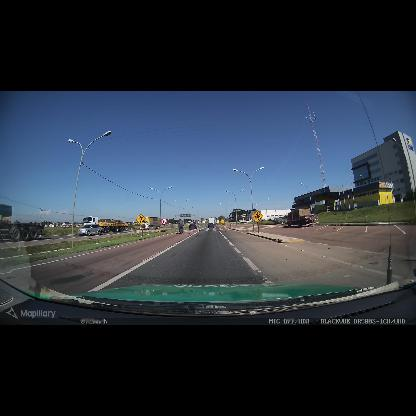A-32b: (251, 210, 264, 223), (135, 214, 147, 226)
R-5a: (161, 218, 167, 224)
